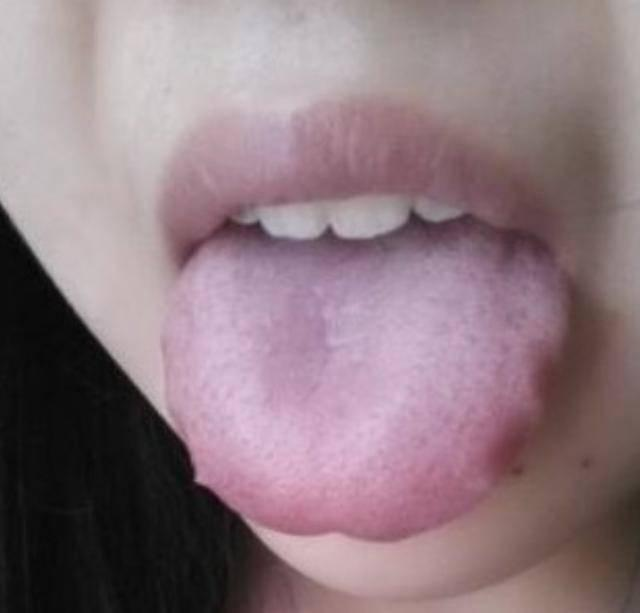baitaishe: (160, 236, 569, 542)
chihenshe: (478, 334, 569, 492)
pangdashe: (160, 236, 569, 542)
xinfeiao: (290, 515, 369, 542)
